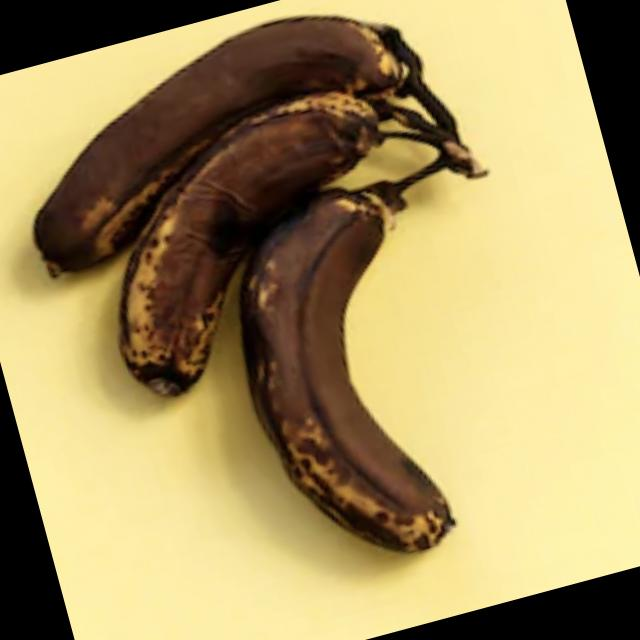rotten-banana: (210, 154, 530, 585), (26, 83, 453, 400), (0, 0, 438, 246)
